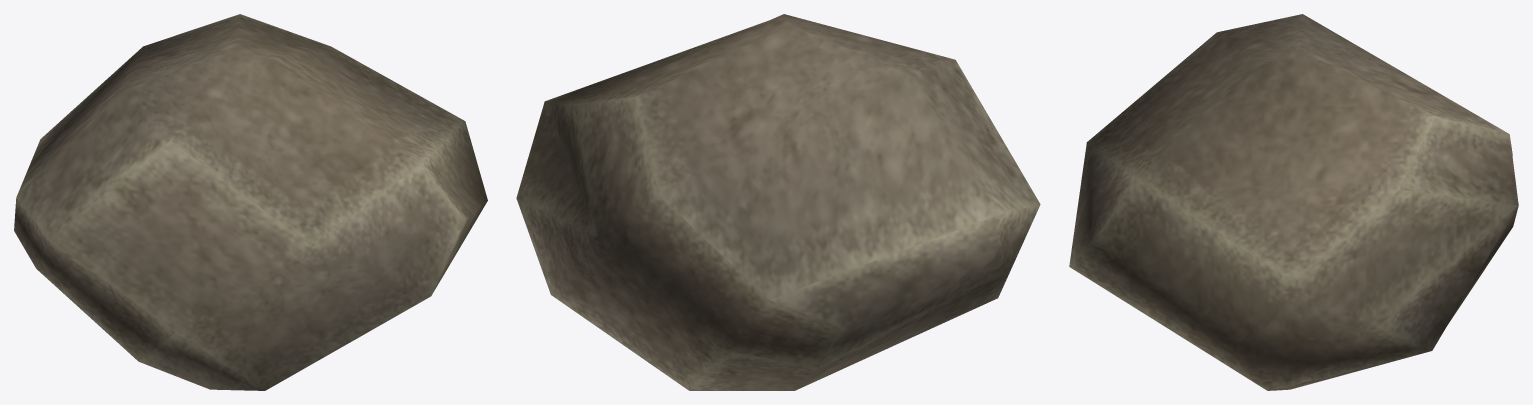
Rendered from Rock_05.fbx.
The picture shows the model from 3 angles, left to right: view 1: azimuth 30°, elevation 25°; view 2: azimuth 150°, elevation 25°; view 3: azimuth 270°, elevation 25°; orthographic projection. The views are drawn at different scales.
Visible parts, largest first — view 1: Rock_05; view 2: Rock_05; view 3: Rock_05.
Part boxes in pixels (bbox=[...]): Rock_05: bbox=[14, 14, 487, 390]; Rock_05: bbox=[516, 14, 1040, 390]; Rock_05: bbox=[1069, 14, 1518, 390].
Bounding box in the file's own units: 1.34 × 0.922 × 1.22.
1 material, 1 textured.
